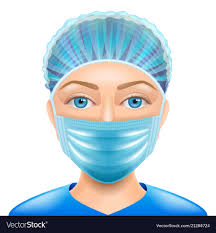mask: (51, 117, 159, 178)
